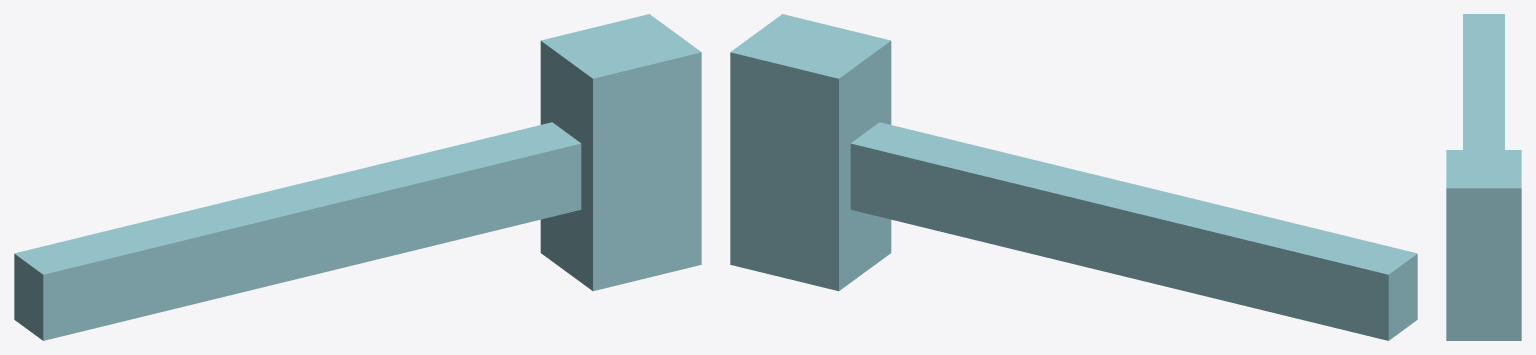
The model's file is cuboid_hammer_v010.obj.
The picture shows the model from 3 angles, left to right: view 1: azimuth 30°, elevation 25°; view 2: azimuth 150°, elevation 25°; view 3: azimuth 270°, elevation 25°; orthographic projection. The views are drawn at different scales.
Bounding box in the file's own units: 0.3009 × 0.0944 × 0.0421.
Materials: 1 (1 with a texture image).
